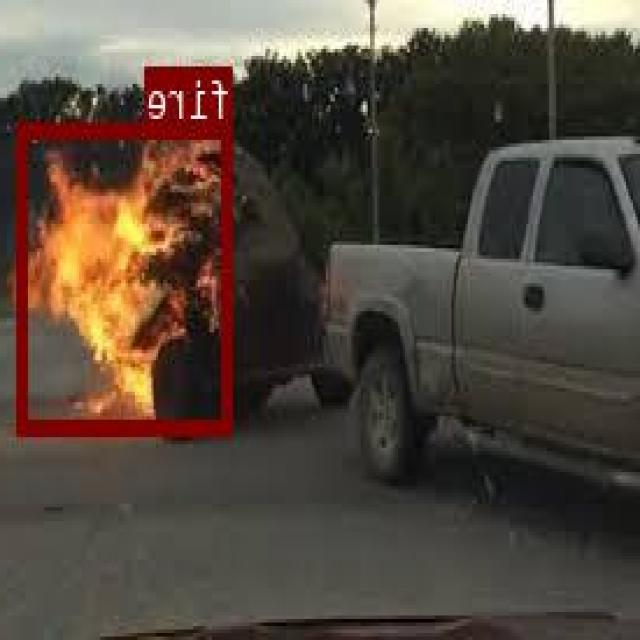fire: (20, 122, 234, 433)
